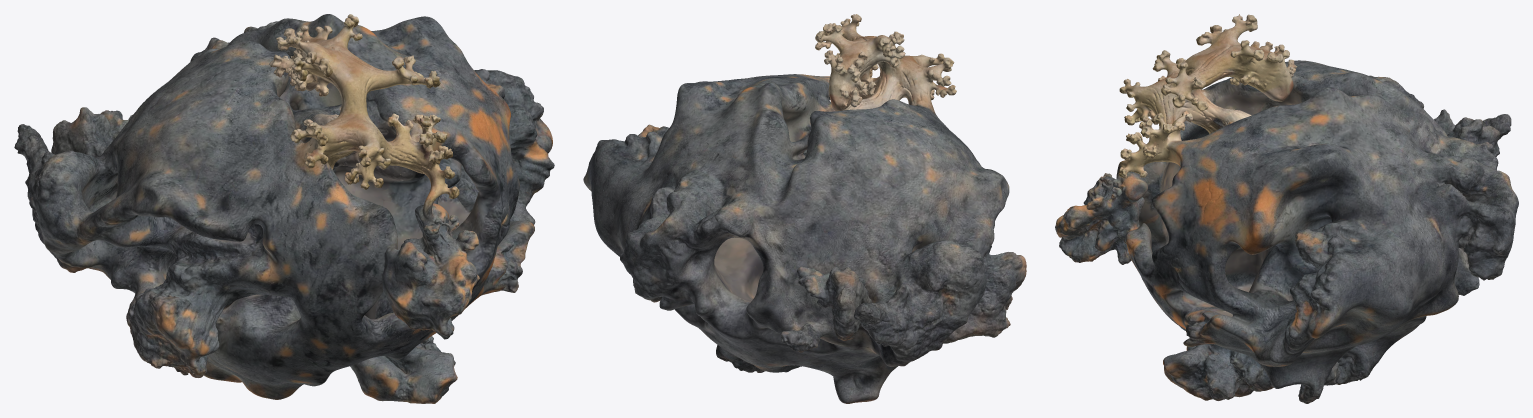
The model's file is kamien-opt.glb.
3 views of the same model, side by side, from view 1: azimuth 30°, elevation 25°; view 2: azimuth 150°, elevation 25°; view 3: azimuth 270°, elevation 25° (orthographic). The views are drawn at different scales.
Bounding box in the file's own units: 1.9 × 1.43 × 1.78.
1 material, 1 textured.
